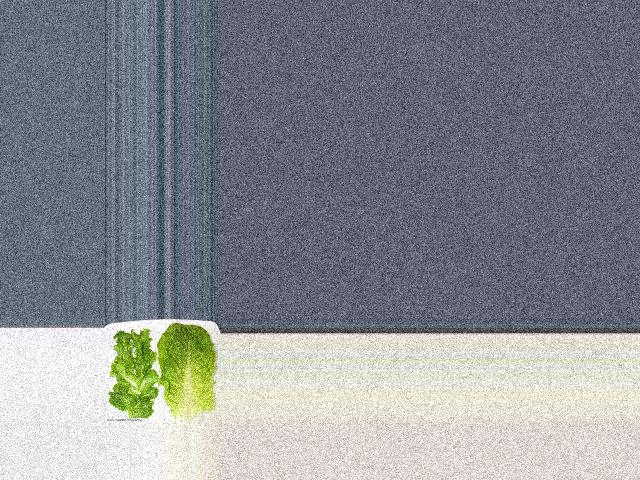lettuce: (103, 328, 156, 415)
